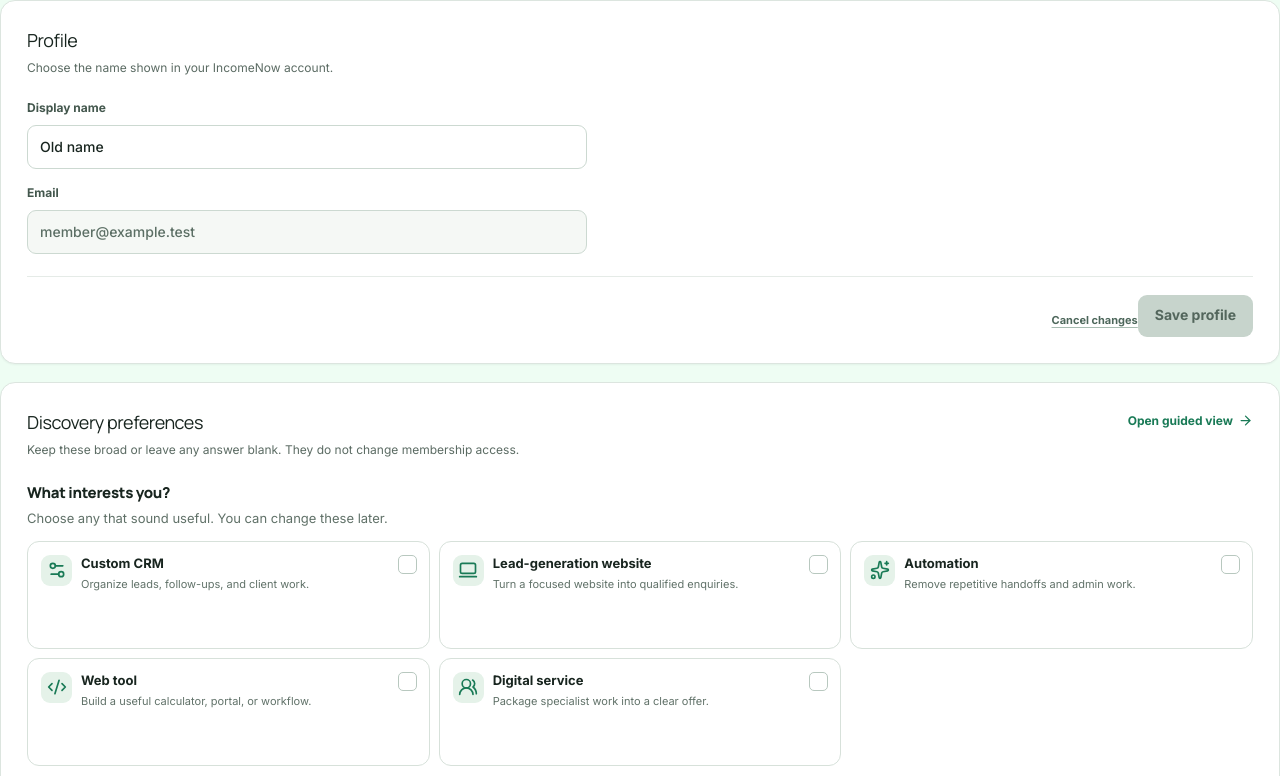
Test case: account settings drafts › saves profile independently without resetting an unsaved preference draft
Click the checkbox labelled "Automation Remove repetitive handoffs and admin work." at coordinates (880, 570), box [850, 540, 1253, 648]
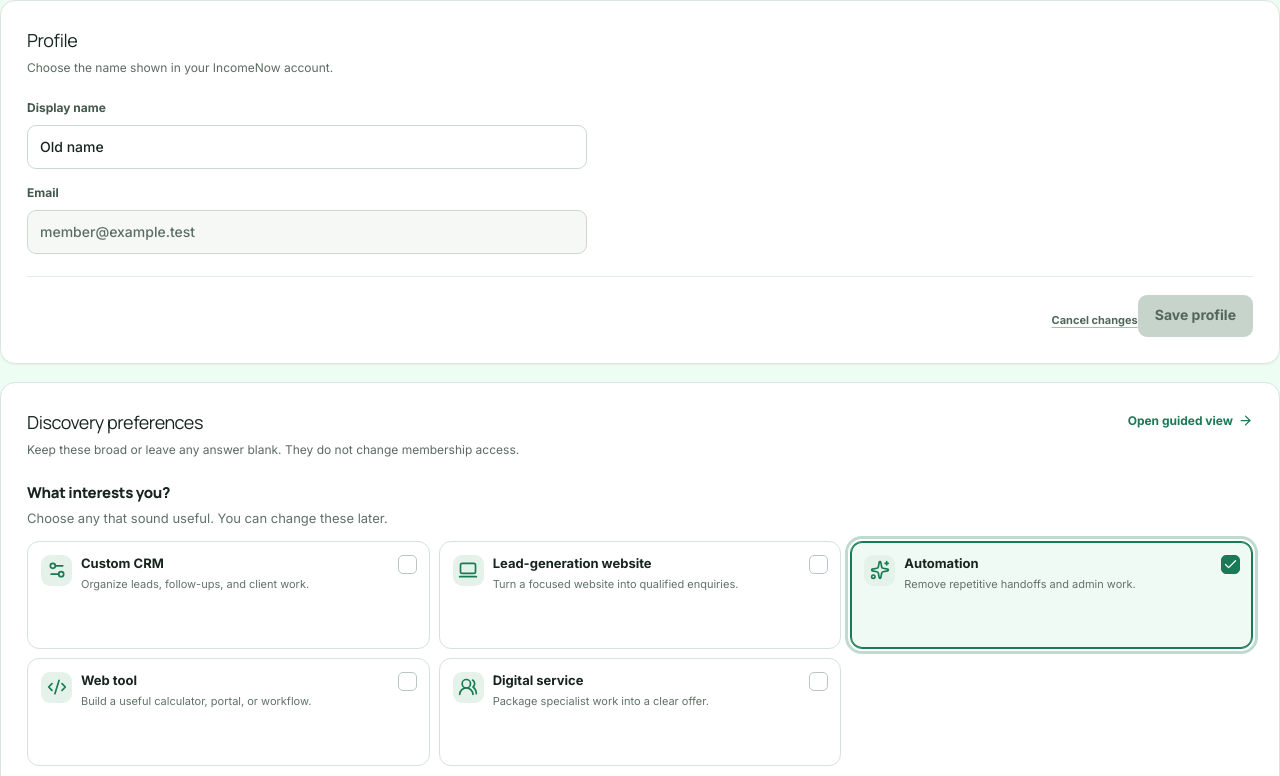
Replace the text in the field labelled "Display name" with "New name" at coordinates (307, 147), box [27, 125, 587, 169]
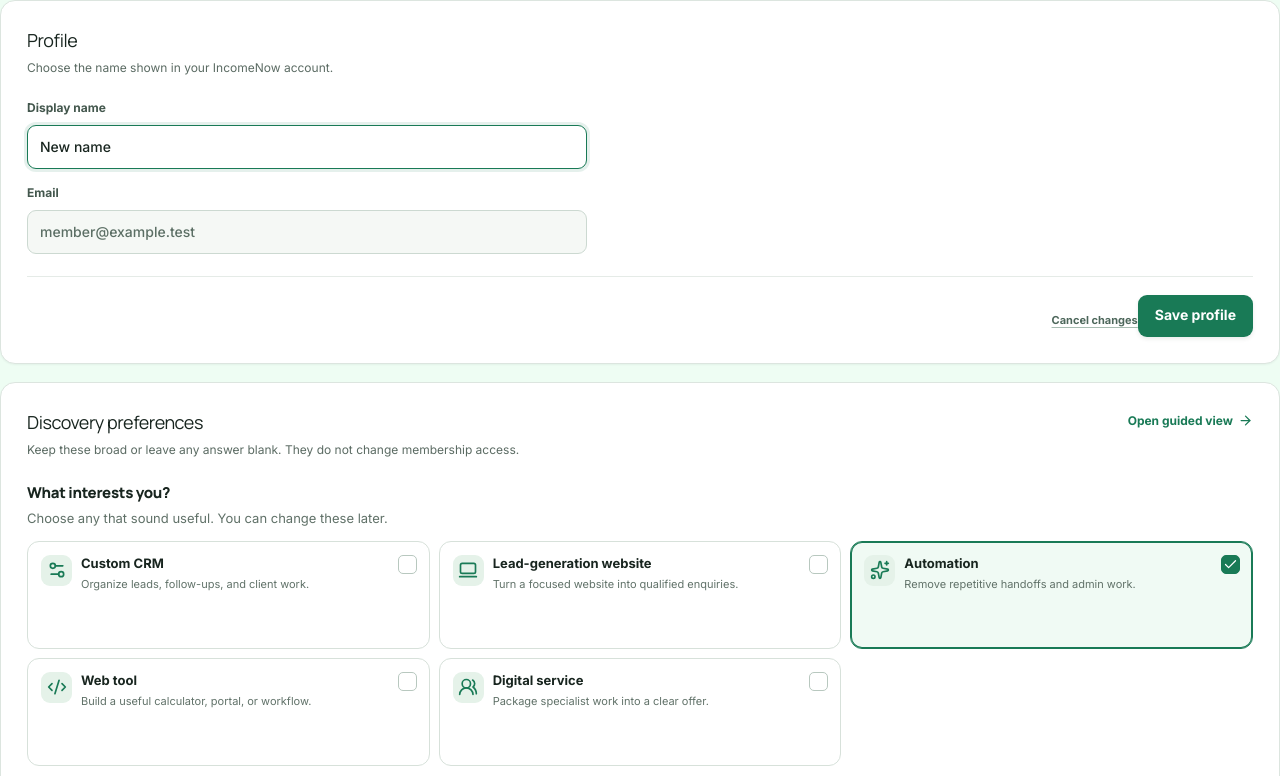
Click the button "Save profile" at coordinates (1195, 316), box [1138, 295, 1253, 337]
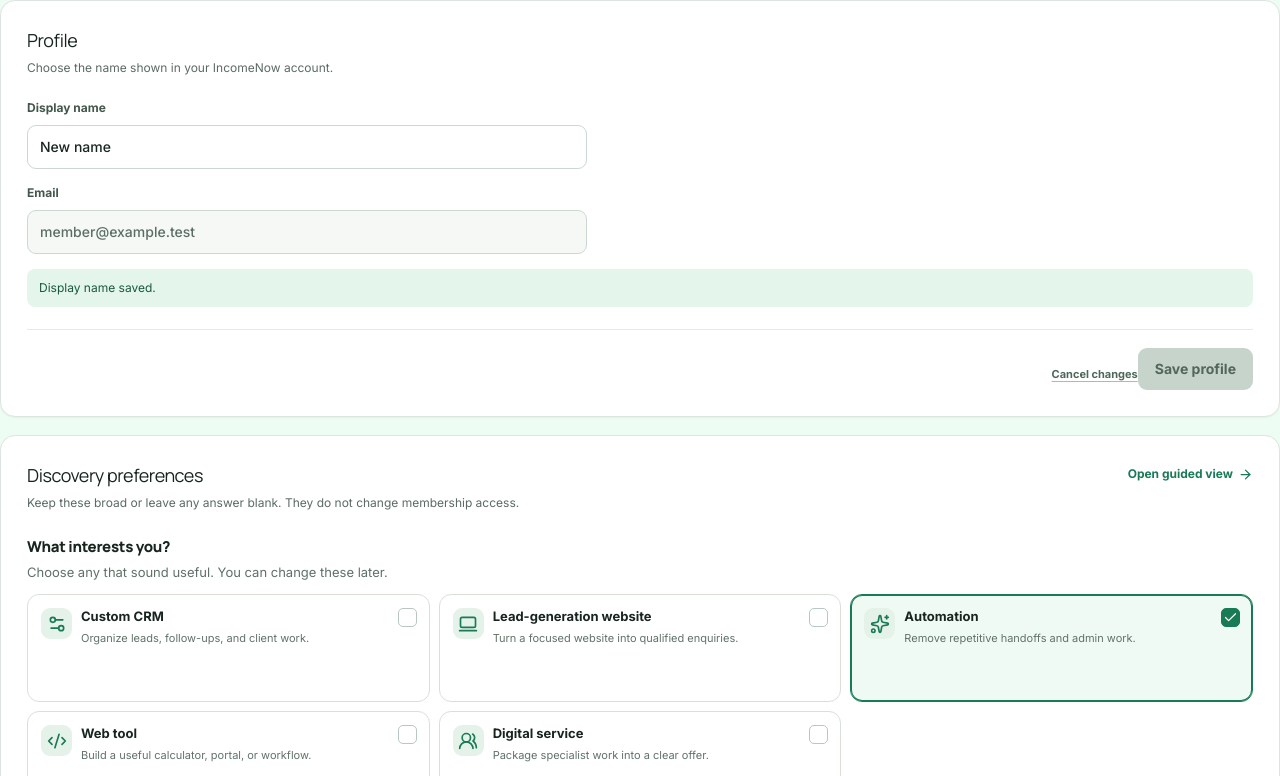
Now the checkbox labelled "Automation Remove repetitive handoffs and admin work." is checked, box [850, 594, 1253, 702]
Now the text "Display name saved." is shown, box [27, 269, 1253, 307]
